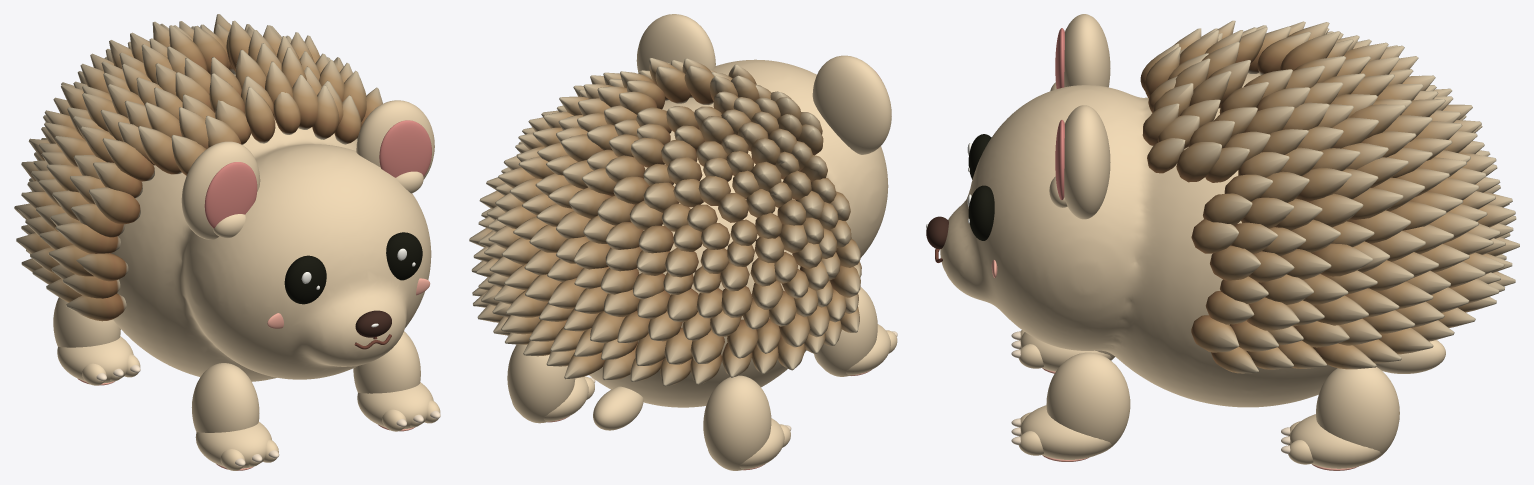
The model's file is hedgehog-stage-04.glb.
3 renders of one model, left to right at view 1: azimuth 30°, elevation 25°; view 2: azimuth 150°, elevation 25°; view 3: azimuth 270°, elevation 25°, orthographic. The views are drawn at different scales.
Parts seen in each view (by area): view 1: S04 • seamless sculpted body and face, S04 • 243 individually formed rounded quills, S04 • L front leg, S04 • L ear • outer rim, S04 • R front leg, S04 • L ear • recessed inner bowl, S04 • R ear • recessed inner bowl, S04 • R ear • outer rim, S04 • L rear leg, S04 • R front paw, S04 • L rear paw, S04 • L front paw (+4 smaller); view 2: S04 • 243 individually formed rounded quills, S04 • seamless sculpted body and face, S04 • L ear • outer rim, S04 • L rear leg, S04 • R rear leg, S04 • R ear • outer rim, S04 • L front leg, S04 • small tail, S04 • L rear paw, S04 • L front paw, S04 • R rear paw; view 3: S04 • 243 individually formed rounded quills, S04 • seamless sculpted body and face, S04 • R front leg, S04 • R rear leg, S04 • R ear • outer rim, S04 • L ear • outer rim, S04 • R front paw, S04 • R rear paw, S04 • small tail, S04 • R glossy eye, S04 • L front paw, S04 • R ear • recessed inner bowl.
Part boxes in pixels (x1=…): S04 • seamless sculpted body and face: x1=111, y1=75, x2=431, y2=381; S04 • 243 individually formed rounded quills: x1=14, y1=14, x2=382, y2=321; S04 • L front leg: x1=191, y1=363, x2=259, y2=432; S04 • L ear • outer rim: x1=181, y1=141, x2=260, y2=239; S04 • R front leg: x1=353, y1=331, x2=420, y2=393; S04 • L ear • recessed inner bowl: x1=204, y1=162, x2=257, y2=228; S04 • R ear • recessed inner bowl: x1=379, y1=120, x2=431, y2=177; S04 • R ear • outer rim: x1=356, y1=100, x2=434, y2=179; S04 • L rear leg: x1=53, y1=297, x2=120, y2=347; S04 • R front paw: x1=357, y1=382, x2=433, y2=429; S04 • L rear paw: x1=57, y1=336, x2=133, y2=383; S04 • L front paw: x1=195, y1=421, x2=271, y2=468; S04 • 243 individually formed rounded quills: x1=469, y1=58, x2=861, y2=386; S04 • seamless sculpted body and face: x1=589, y1=59, x2=888, y2=407; S04 • L ear • outer rim: x1=812, y1=55, x2=891, y2=154; S04 • L rear leg: x1=703, y1=375, x2=771, y2=470; S04 • R rear leg: x1=507, y1=344, x2=575, y2=423; S04 • R ear • outer rim: x1=636, y1=14, x2=715, y2=73; S04 • L front leg: x1=814, y1=287, x2=877, y2=376; S04 • small tail: x1=593, y1=386, x2=643, y2=430; S04 • L rear paw: x1=708, y1=418, x2=784, y2=469; S04 • L front paw: x1=814, y1=324, x2=890, y2=375; S04 • R rear paw: x1=512, y1=377, x2=588, y2=421; S04 • 243 individually formed rounded quills: x1=1140, y1=20, x2=1519, y2=373; S04 • seamless sculpted body and face: x1=940, y1=73, x2=1337, y2=407; S04 • R front leg: x1=1046, y1=352, x2=1130, y2=453; S04 • R rear leg: x1=1316, y1=367, x2=1399, y2=462; S04 • R ear • outer rim: x1=1064, y1=105, x2=1110, y2=219; S04 • L ear • outer rim: x1=1064, y1=14, x2=1110, y2=87; S04 • R front paw: x1=1020, y1=405, x2=1111, y2=459; S04 • R rear paw: x1=1290, y1=414, x2=1381, y2=468; S04 • small tail: x1=1375, y1=340, x2=1445, y2=373; S04 • R glossy eye: x1=968, y1=185, x2=994, y2=240; S04 • L front paw: x1=1020, y1=332, x2=1111, y2=371; S04 • R ear • recessed inner bowl: x1=1055, y1=120, x2=1064, y2=199.
Size of the model in its own units: 1.47 by 1.34 by 1.94.
